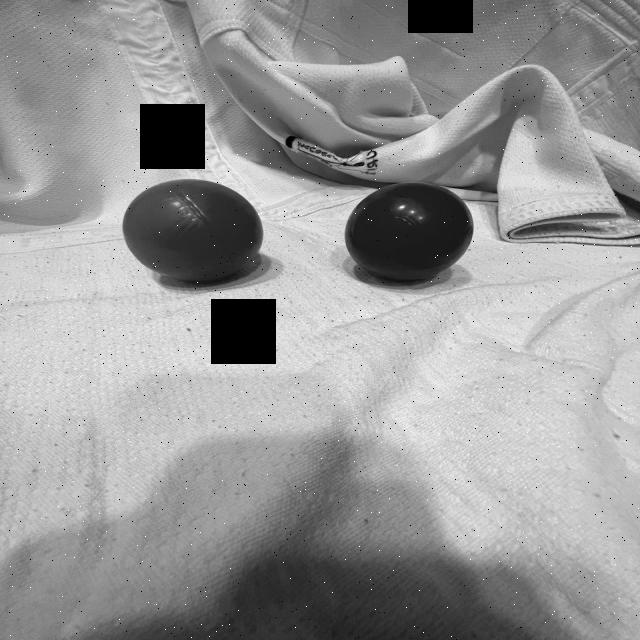ball: (120, 177, 265, 285), (344, 178, 476, 286)
